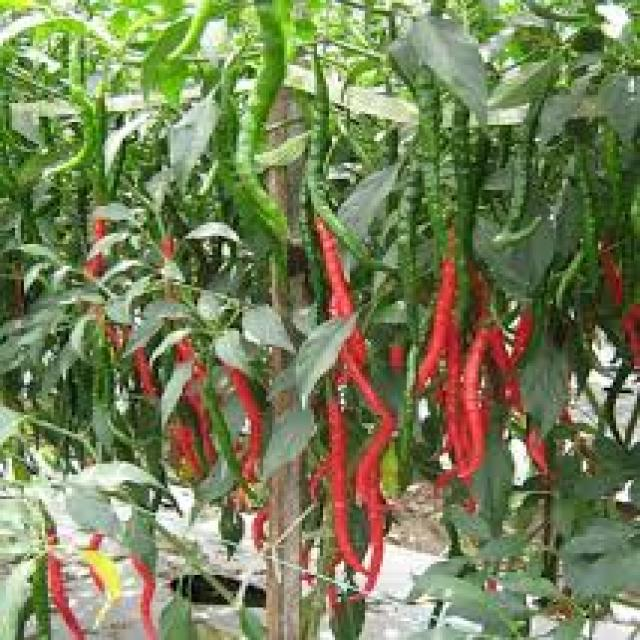sehat: (417, 10, 505, 137), (277, 300, 370, 400), (246, 412, 324, 490)
